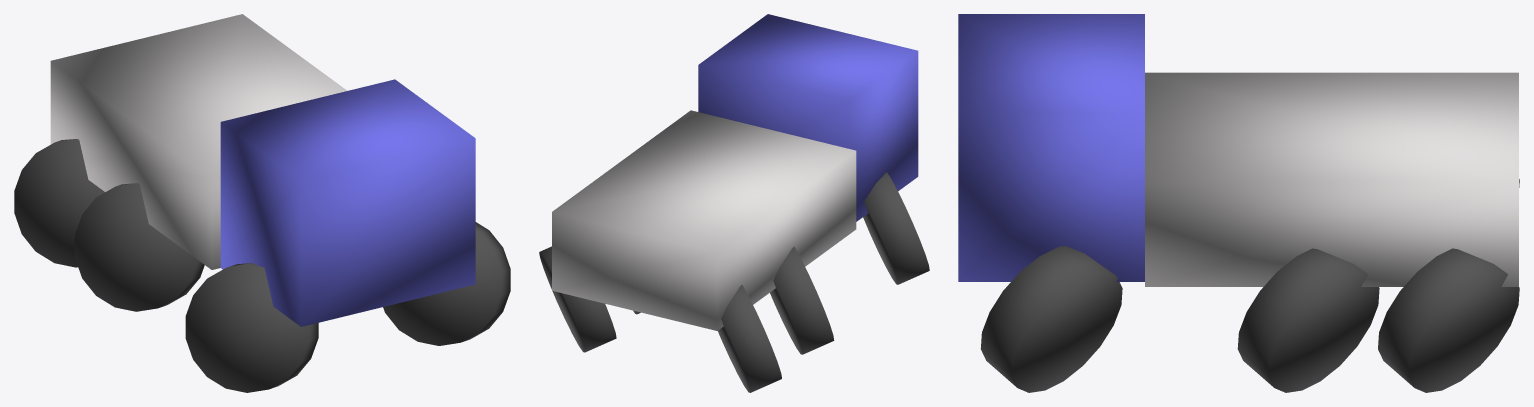
File: truck.glb
3 renders of one model, left to right at view 1: azimuth 30°, elevation 25°; view 2: azimuth 150°, elevation 25°; view 3: azimuth 270°, elevation 25°, orthographic. The views are drawn at different scales.
Visible parts, largest first — view 1: cab, bed, tw_-0.55_0.8, tw_-0.55_-0.3, tw_-0.55_-0.9, tw_0.55_0.8; view 2: bed, cab, tw_-0.55_0.8, tw_-0.55_-0.3, tw_-0.55_-0.9, tw_0.55_-0.9; view 3: bed, cab, tw_0.55_0.8, tw_0.55_-0.9, tw_0.55_-0.3.
Boxes of the visible parts, bbox=[...] form: cab: bbox=[220, 79, 475, 326]; bed: bbox=[50, 14, 347, 269]; tw_-0.55_0.8: bbox=[185, 263, 318, 392]; tw_-0.55_-0.3: bbox=[74, 183, 204, 311]; tw_-0.55_-0.9: bbox=[14, 139, 104, 267]; tw_0.55_0.8: bbox=[383, 222, 510, 345]; bed: bbox=[552, 110, 856, 330]; cab: bbox=[698, 14, 918, 221]; tw_-0.55_0.8: bbox=[863, 172, 929, 284]; tw_-0.55_-0.3: bbox=[770, 246, 834, 354]; tw_-0.55_-0.9: bbox=[718, 285, 781, 392]; tw_0.55_-0.9: bbox=[539, 246, 616, 352]; bed: bbox=[1145, 72, 1518, 286]; cab: bbox=[958, 14, 1144, 281]; tw_0.55_0.8: bbox=[980, 246, 1122, 392]; tw_0.55_-0.9: bbox=[1378, 248, 1519, 392]; tw_0.55_-0.3: bbox=[1237, 248, 1379, 392].
Bounding box in the file's own units: 1.71 × 1.28 × 2.4.
